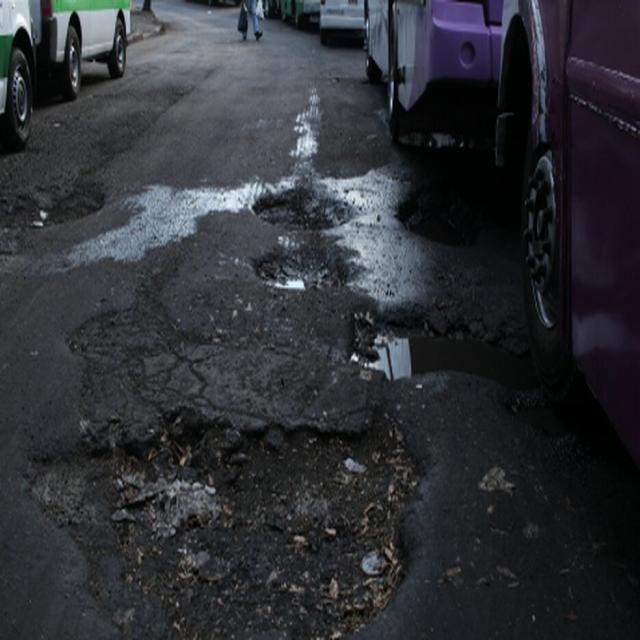Pothole: (16, 410, 508, 636), (234, 163, 536, 423), (20, 158, 141, 254)
